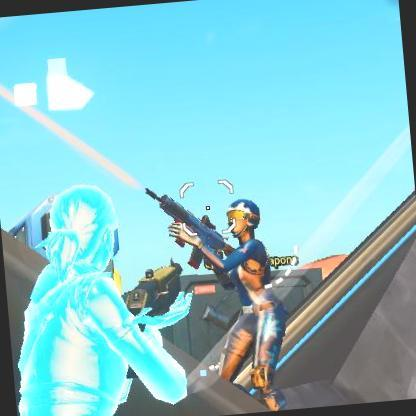person: (195, 198, 276, 314)
